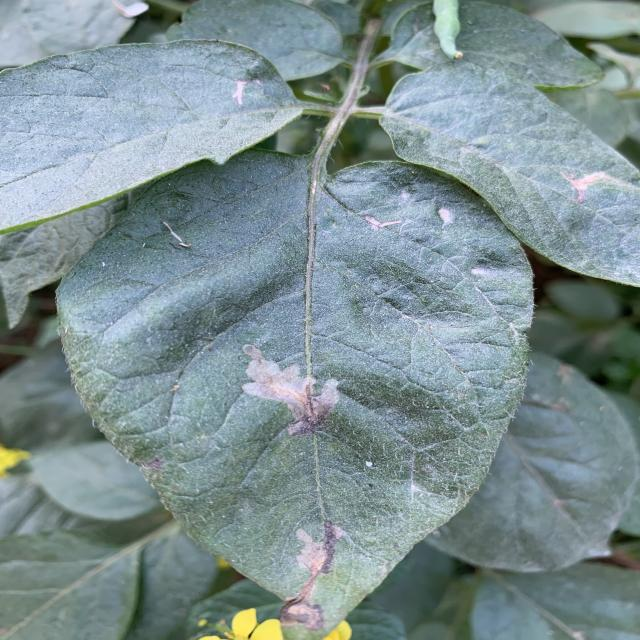lateblight: (242, 344, 340, 435), (280, 521, 347, 630)
